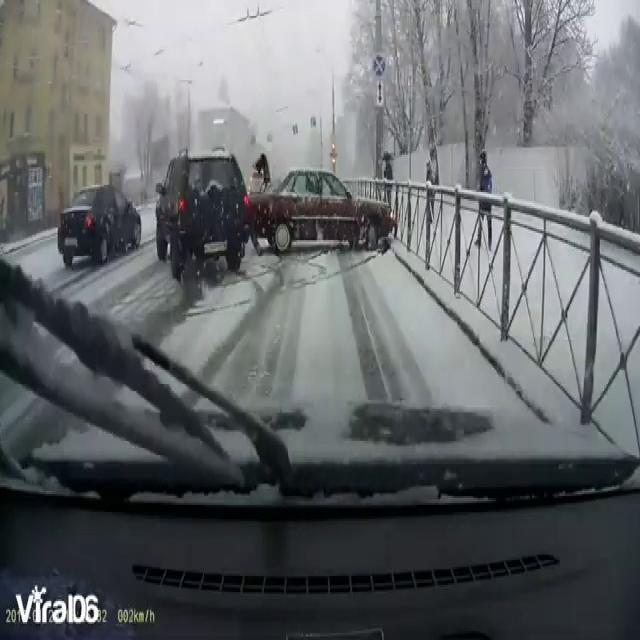moderate: (148, 138, 394, 280)
